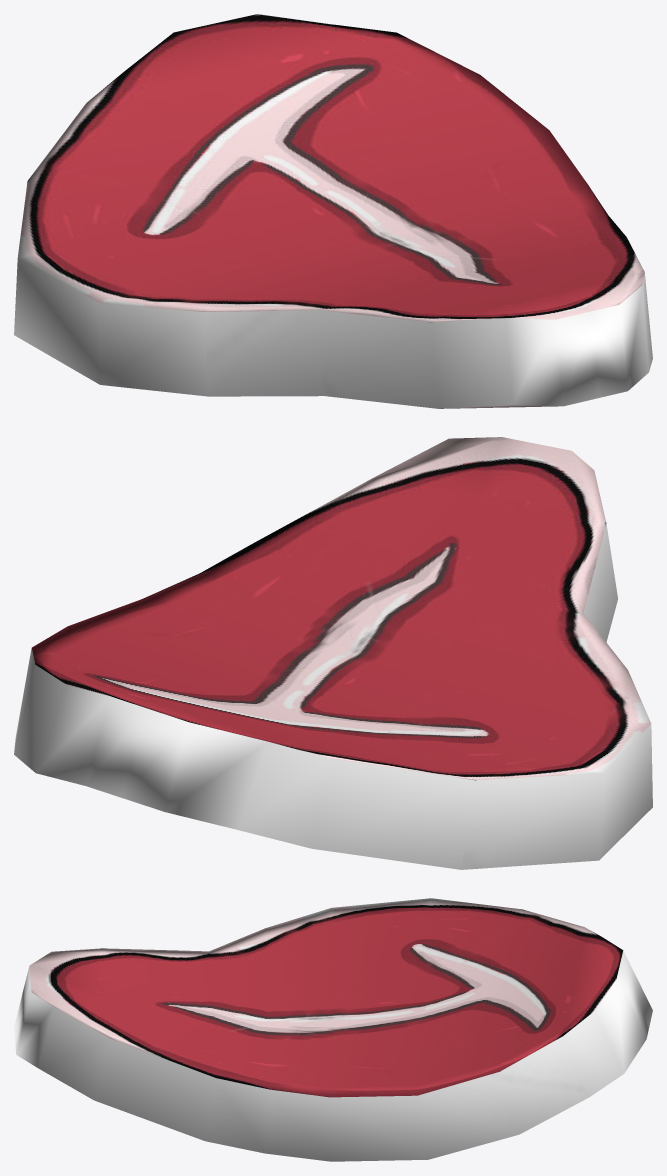
The model's file is meat.fbx.
3 renders of one model, top to bottom at view 1: azimuth 30°, elevation 25°; view 2: azimuth 150°, elevation 25°; view 3: azimuth 270°, elevation 25°, orthographic. The views are drawn at different scales.
Parts seen in each view (by area): view 1: meat_msh; view 2: meat_msh; view 3: meat_msh.
Boxes of the visible parts, left/top/right/bottom form: meat_msh: left=14, top=14, right=652, bottom=408; meat_msh: left=14, top=437, right=652, bottom=869; meat_msh: left=14, top=898, right=652, bottom=1161.
Size of the model in its own units: 3.32 by 0.9457 by 4.41.
